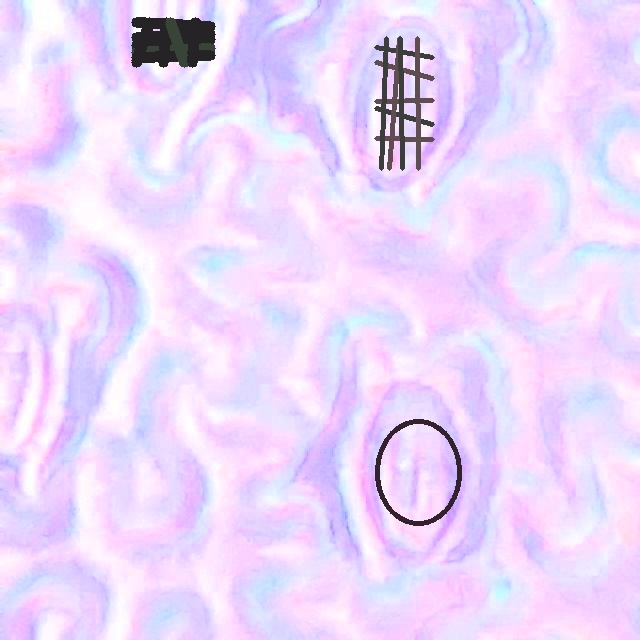close: (373, 419, 462, 525), (374, 36, 433, 169)
open: (132, 18, 215, 66)
